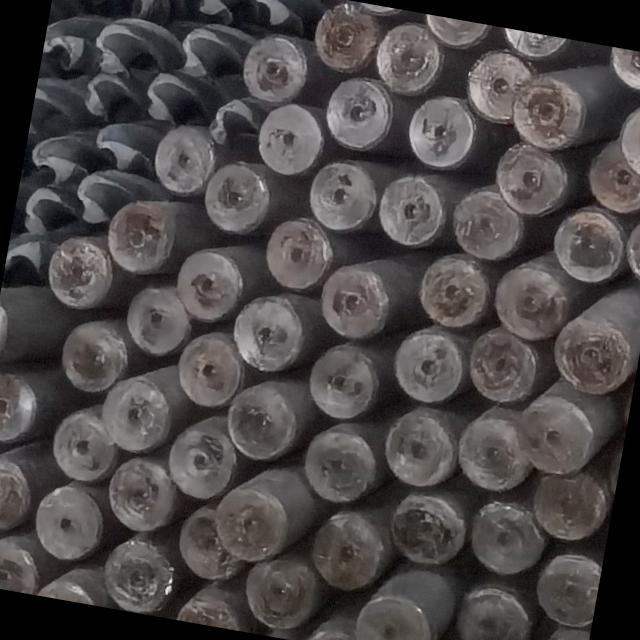tool: (510, 388, 599, 478), (228, 287, 312, 378), (548, 312, 636, 398), (528, 462, 616, 548), (206, 482, 294, 567), (301, 506, 387, 590), (547, 200, 629, 288), (491, 258, 576, 342), (296, 424, 383, 506), (459, 324, 541, 411), (95, 363, 175, 452), (222, 378, 304, 462), (385, 487, 469, 569), (305, 337, 386, 422), (100, 192, 186, 272), (98, 530, 177, 617), (464, 496, 547, 578), (509, 67, 590, 151), (368, 15, 448, 100), (315, 261, 397, 343), (460, 42, 538, 128), (170, 326, 247, 412), (323, 70, 401, 154), (58, 310, 136, 394), (456, 408, 534, 492), (372, 166, 449, 251), (490, 139, 572, 218), (404, 90, 479, 176), (388, 326, 468, 406), (102, 450, 180, 532), (29, 481, 107, 563), (448, 186, 530, 264), (302, 156, 380, 238), (260, 210, 338, 292), (379, 408, 456, 491), (41, 232, 117, 314), (252, 97, 328, 178), (241, 552, 320, 629), (163, 422, 240, 500), (237, 27, 313, 106), (172, 245, 248, 324), (120, 279, 194, 360), (417, 252, 494, 329), (175, 503, 248, 584), (201, 158, 276, 236), (46, 402, 119, 482), (532, 548, 603, 630), (305, 0, 379, 73), (148, 120, 215, 200), (450, 580, 533, 640), (580, 137, 640, 214), (353, 591, 436, 640), (38, 556, 116, 608), (0, 364, 42, 451), (0, 449, 38, 532), (0, 528, 46, 594), (418, 14, 491, 52), (497, 27, 568, 62), (179, 595, 245, 631), (615, 103, 640, 184), (618, 202, 640, 292), (606, 47, 640, 97), (307, 623, 364, 640)
tool_b: (94, 12, 190, 81), (176, 18, 257, 90), (40, 5, 106, 76), (134, 68, 210, 129), (76, 64, 148, 128), (92, 116, 164, 180), (12, 172, 81, 238), (27, 72, 84, 144), (70, 168, 134, 228), (23, 129, 87, 186), (207, 92, 266, 150), (2, 227, 46, 287), (102, 0, 191, 24), (180, 0, 255, 24), (245, 0, 304, 29)
